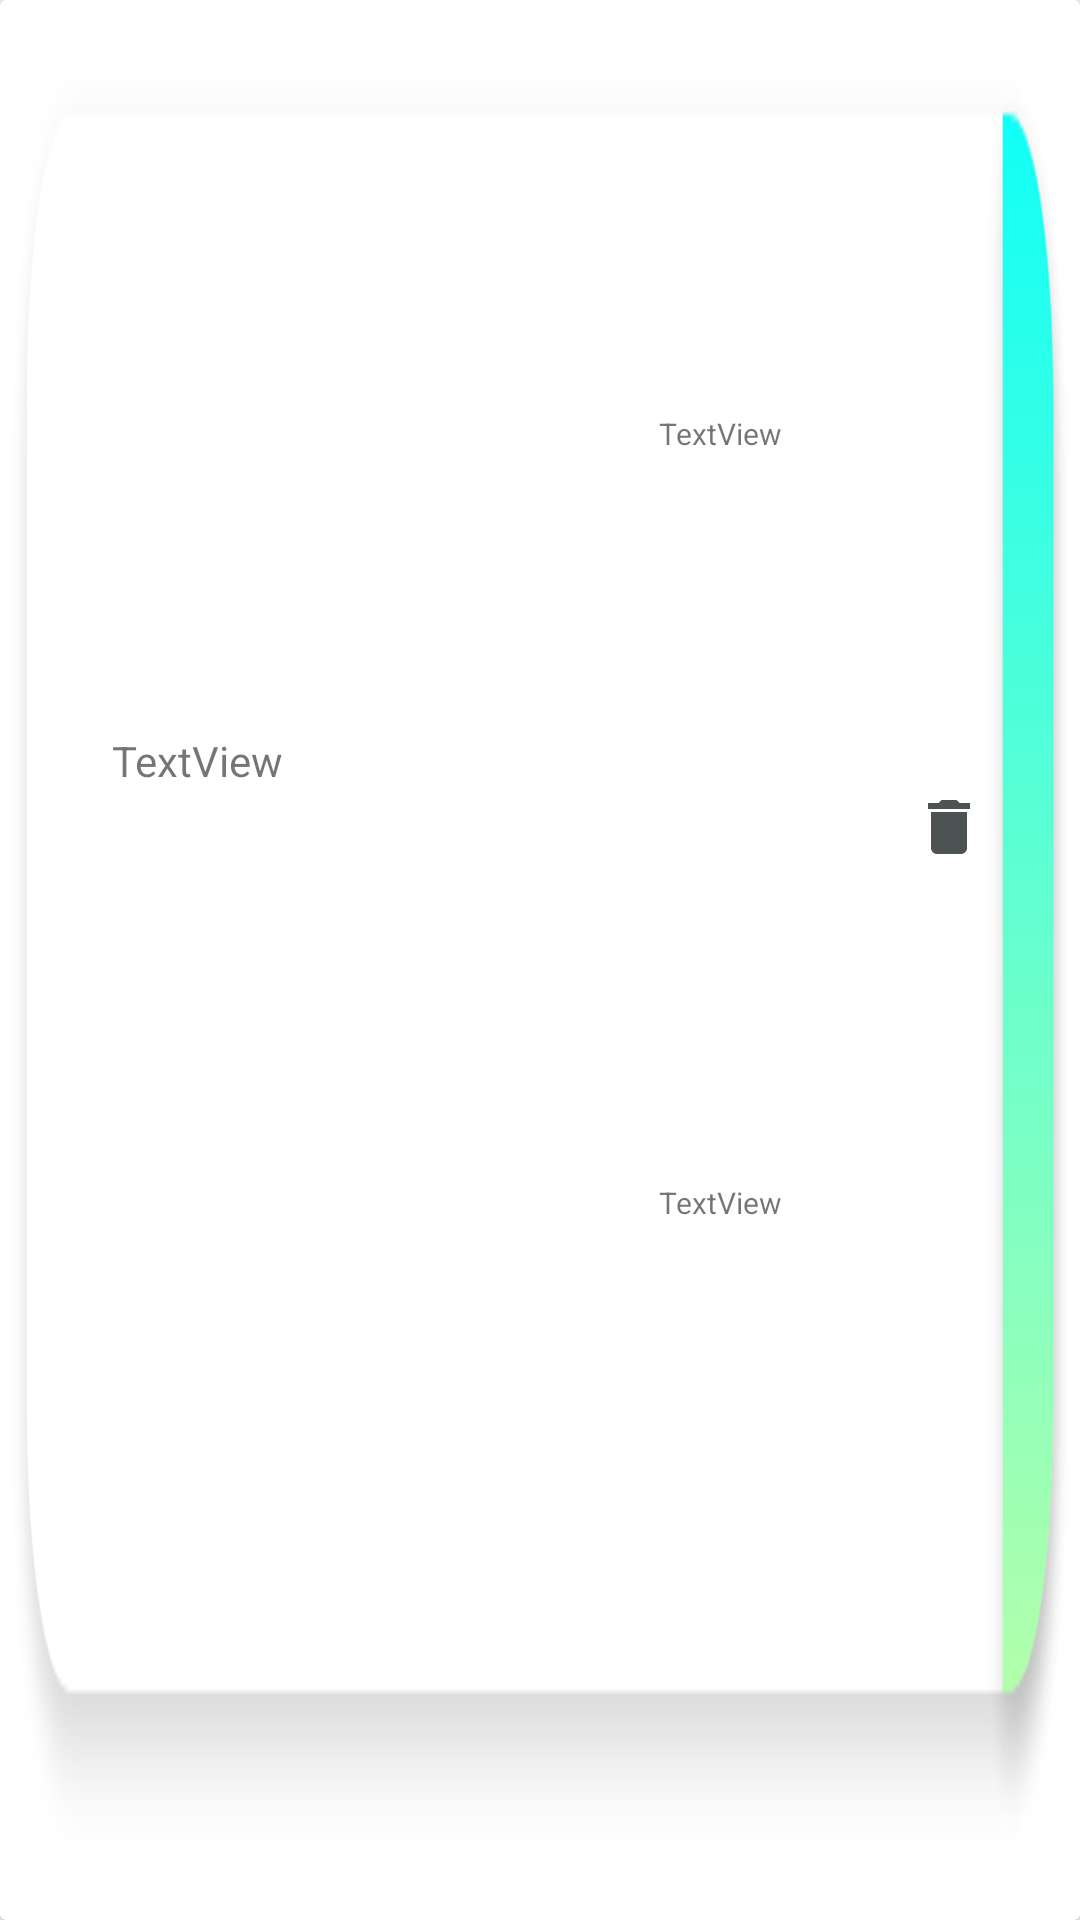

Named icons in this screenshot (1080*1920) and their centers, (x,y):
delete: (949,827)
